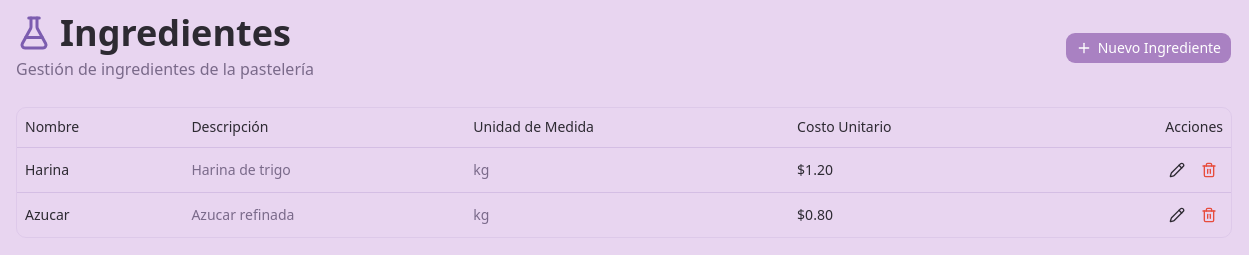
Scenario: Ingredientes Component › should delete an ingredient
expect the text "Harina" is shown: met, box [17, 148, 183, 193]
Click the button named "Eliminar" in the row of "Harina de trigo".
click(1209, 170)  # box [1195, 156, 1223, 184]
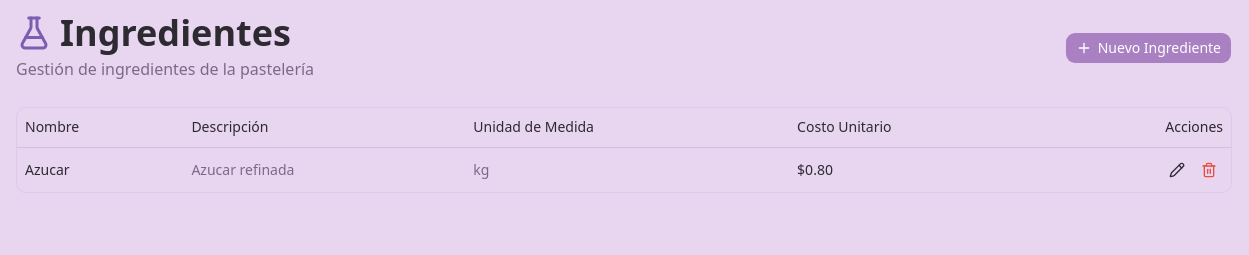
expect the text "Harina" is gone: met
